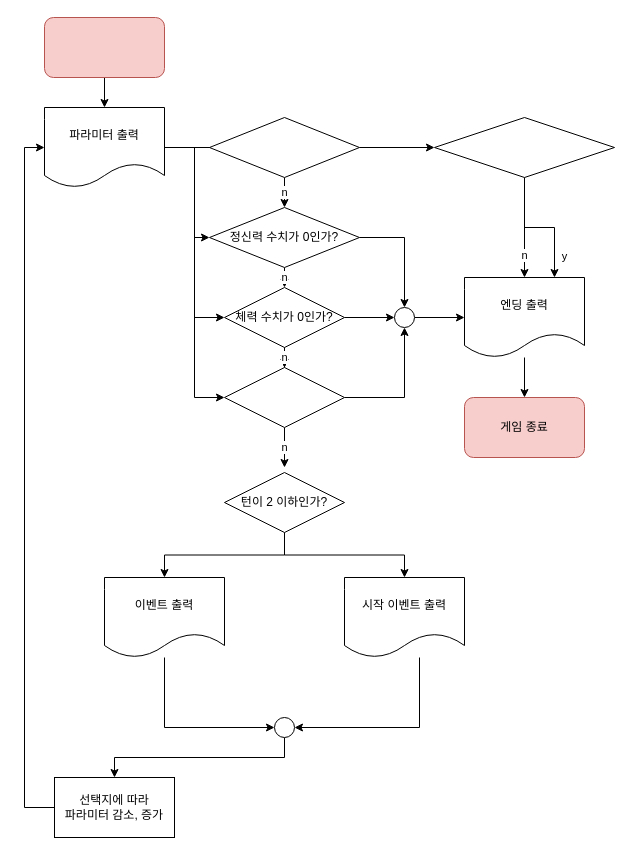
The diagram is 632 pixels wide and 855 high, and some of its shapes have lost their labels. Here are the shapes that lost their labels. From the top down, the centre of each, then its label:
the point at 104,47: 게임 시작
the point at 284,147: 턴이 35턴 이상인가?
the point at 524,147: 자존감 수치가 3 이상인가?
the point at 284,397: 지력 수치가 0인가?
